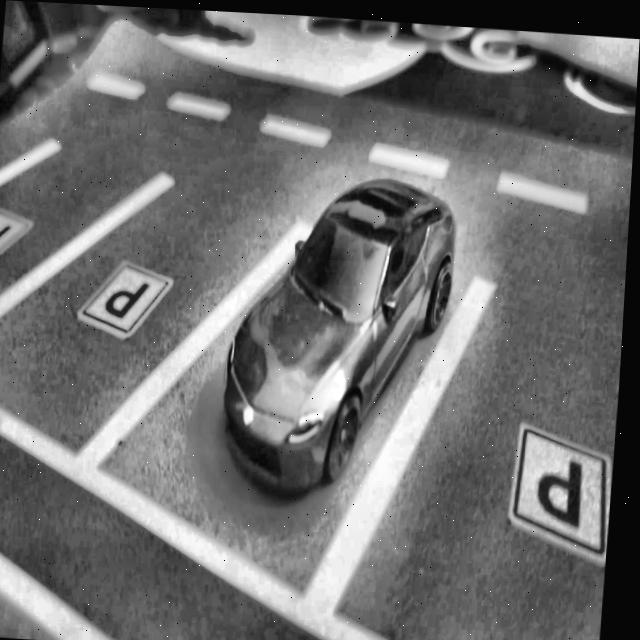car: (220, 163, 461, 501)
